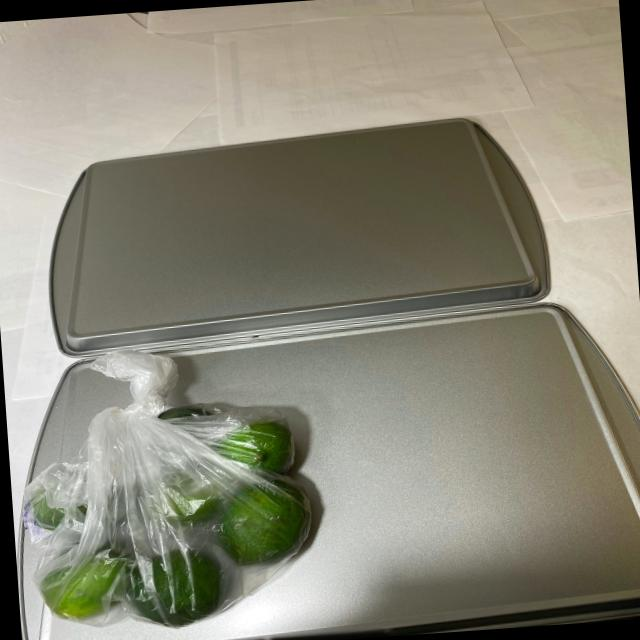lemon: (8, 386, 331, 638)
